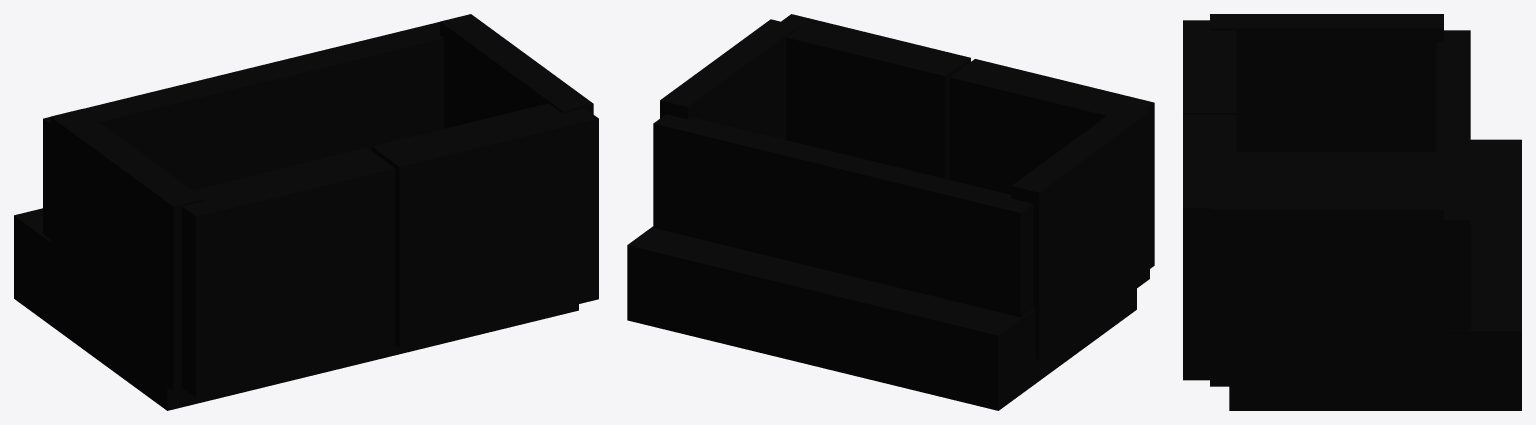
The model's file is crystal_carapace_boots.obj.
3 views of the same model, side by side, from view 1: azimuth 30°, elevation 25°; view 2: azimuth 150°, elevation 25°; view 3: azimuth 270°, elevation 25° (orthographic). The views are drawn at different scales.
Bounding box in the file's own units: 0.875 × 0.4237 × 0.6401.
